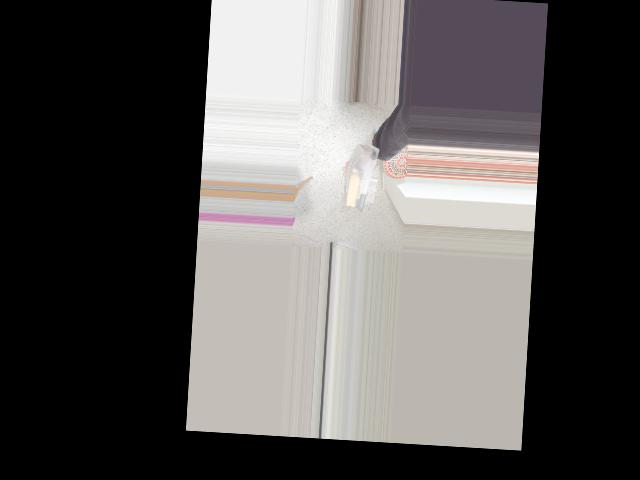cheese: (342, 140, 382, 211)
